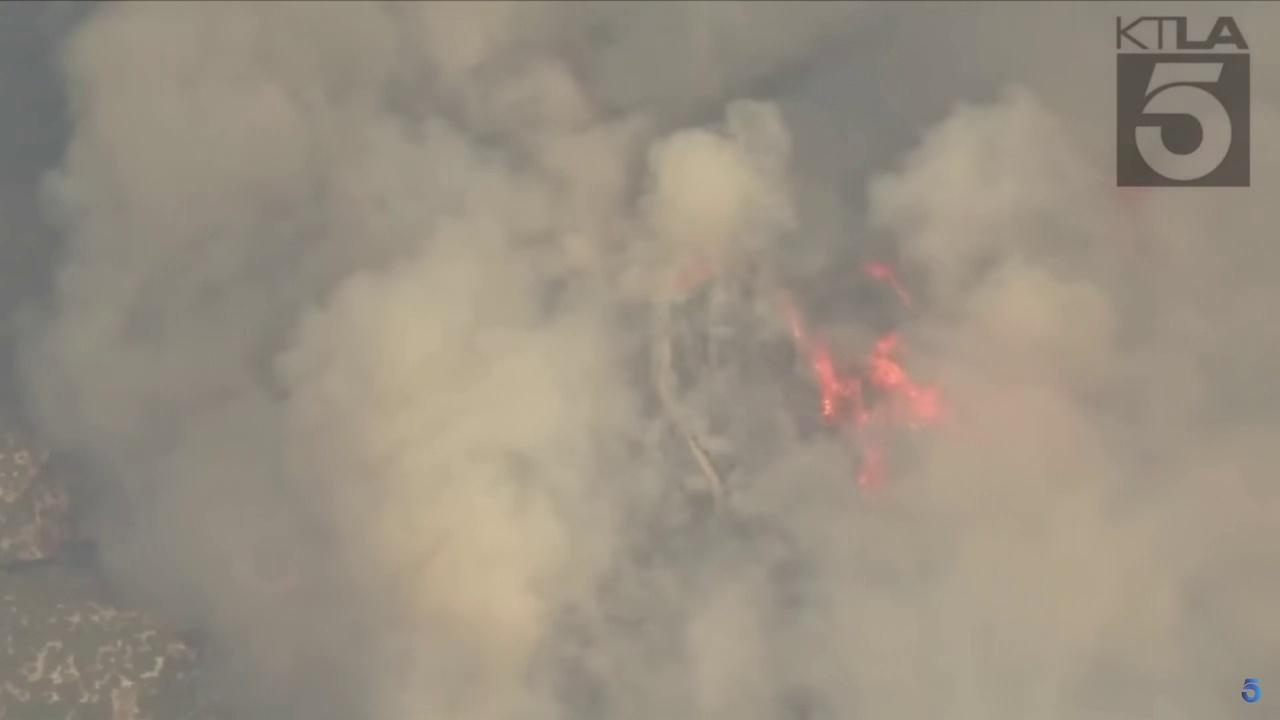fire: (813, 328, 944, 489), (860, 258, 913, 308), (792, 325, 802, 342)
smoke: (0, 0, 1280, 720)
